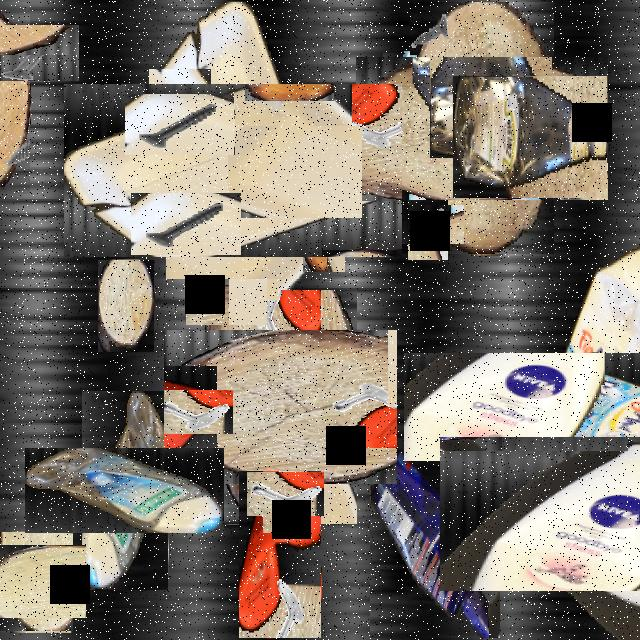glass: (366, 68, 484, 184), (539, 366, 625, 452)
metal: (137, 81, 223, 168), (0, 13, 67, 93), (194, 270, 258, 334), (254, 464, 316, 524), (400, 196, 456, 252)
plastic: (105, 42, 361, 298), (467, 288, 640, 525), (462, 413, 640, 614), (370, 450, 500, 638), (54, 419, 196, 562), (453, 76, 607, 198), (239, 471, 321, 638)
wood: (383, 29, 581, 227), (183, 310, 377, 504), (175, 176, 288, 290), (0, 538, 79, 624), (0, 2, 30, 194), (98, 260, 154, 352), (291, 195, 357, 260)
